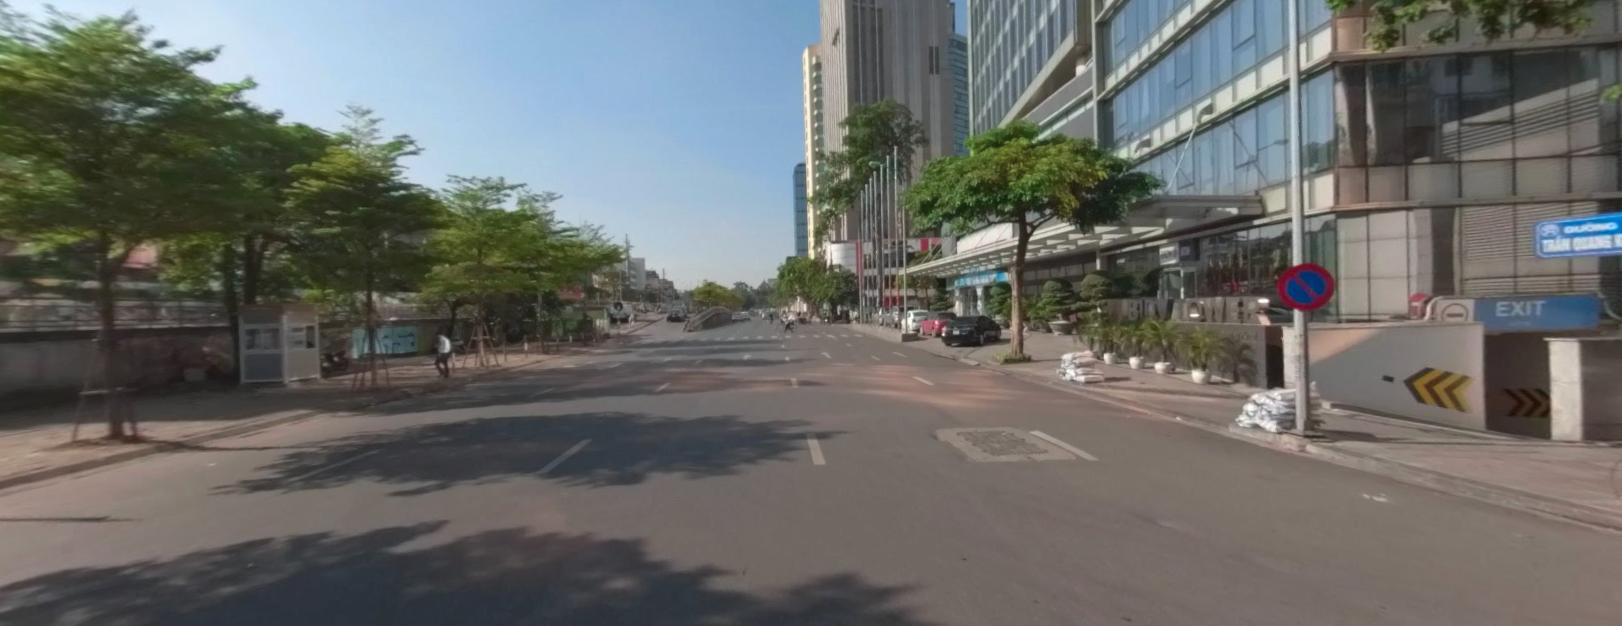Cam dung va do: (1276, 261, 1333, 308)
